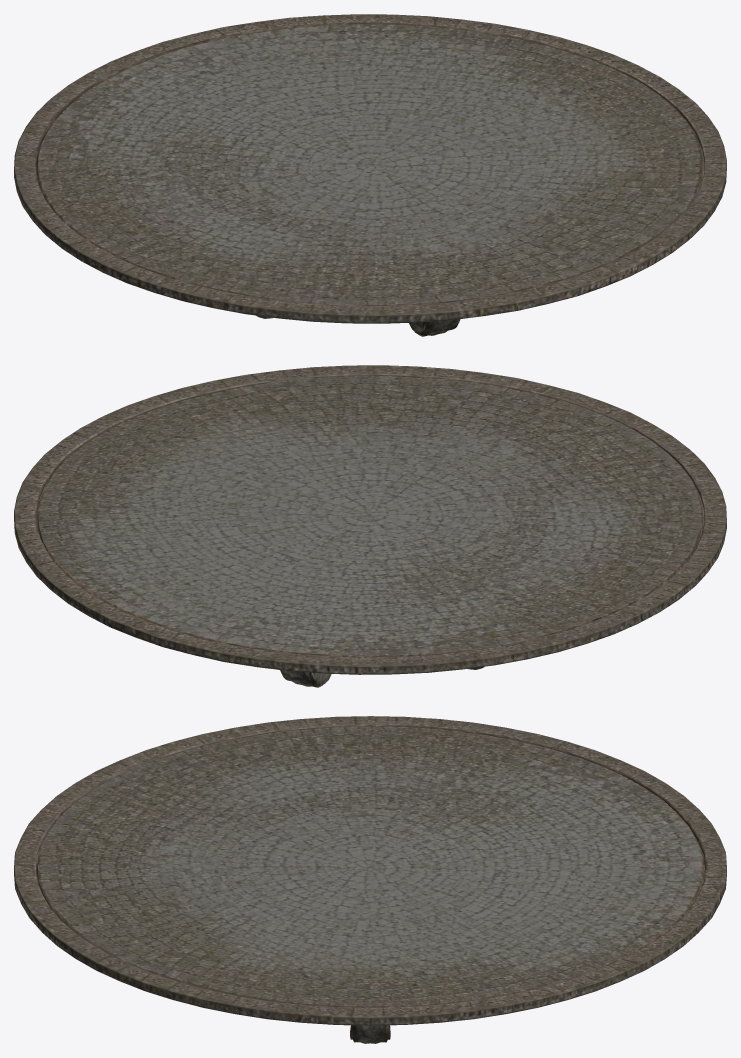
The model's file is plaza_cobblestone.glb.
The picture shows the model from 3 angles, top to bottom: view 1: azimuth 30°, elevation 25°; view 2: azimuth 150°, elevation 25°; view 3: azimuth 270°, elevation 25°; orthographic projection.
Visible parts, largest first — view 1: tripo_node_93dffac1-7e1d-427b-b006-33ca60cce7d4; view 2: tripo_node_93dffac1-7e1d-427b-b006-33ca60cce7d4; view 3: tripo_node_93dffac1-7e1d-427b-b006-33ca60cce7d4.
Part boxes in pixels (x1,y1,x2,y2): tripo_node_93dffac1-7e1d-427b-b006-33ca60cce7d4: (14,14,726,336); tripo_node_93dffac1-7e1d-427b-b006-33ca60cce7d4: (14,365,726,687); tripo_node_93dffac1-7e1d-427b-b006-33ca60cce7d4: (14,716,726,1043).
Bounding box in the file's own units: 0.9995 × 0.19 × 0.9995.
1 material, 1 textured.
